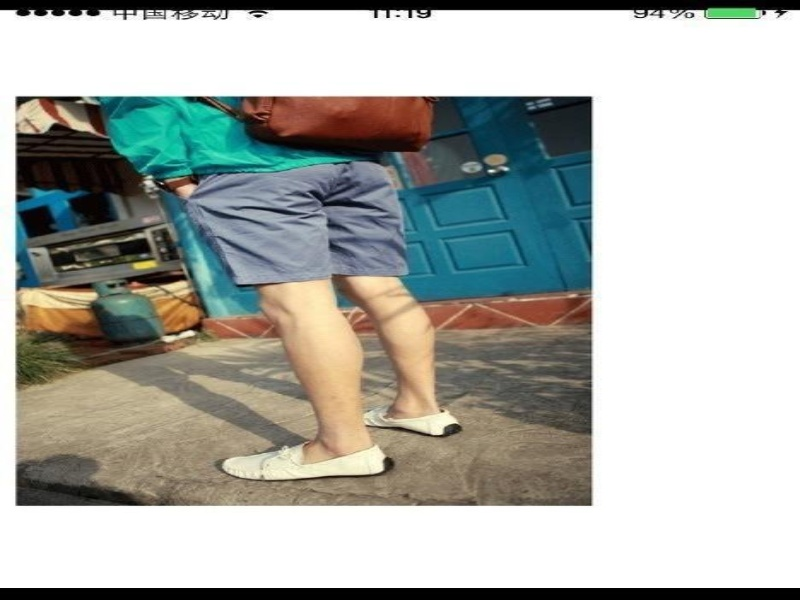long_sleeved_shirt: (87, 94, 410, 185)
shorts: (179, 150, 422, 290)
